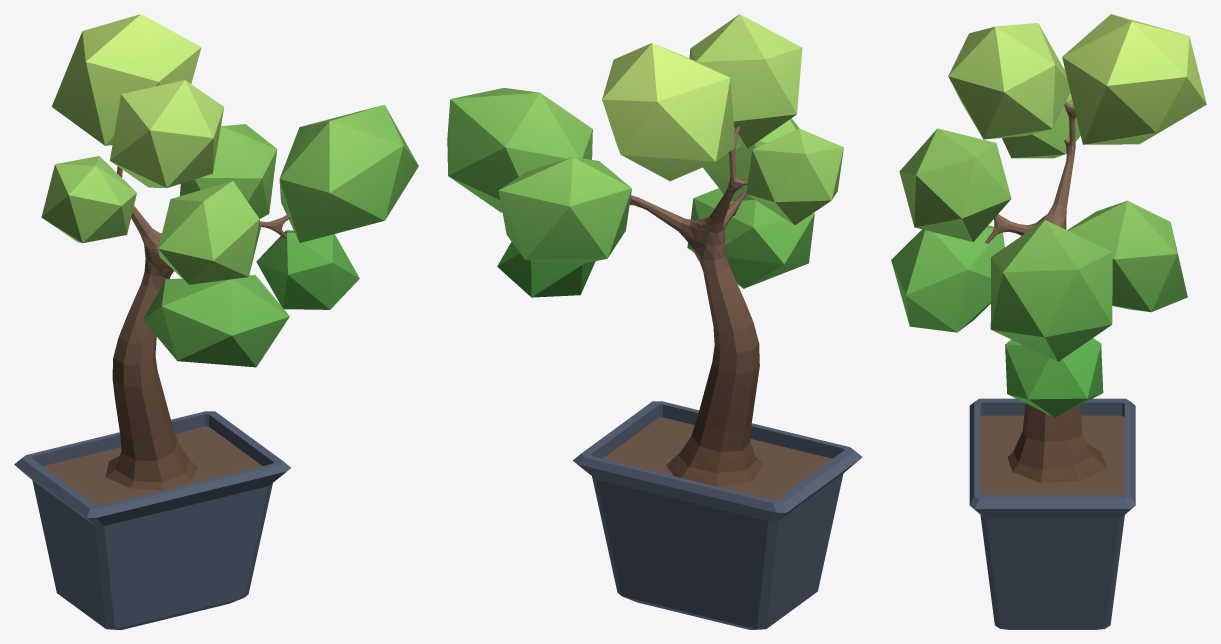
The model's file is Plant_03.fbx.
The picture shows the model from 3 angles, left to right: view 1: azimuth 30°, elevation 25°; view 2: azimuth 150°, elevation 25°; view 3: azimuth 270°, elevation 25°; orthographic projection. The views are drawn at different scales.
Visible parts, largest first — view 1: Plant_03; view 2: Plant_03; view 3: Plant_03.
Boxes of the visible parts, box(x1,y1,x2,y2) form: Plant_03: box(14, 14, 418, 629); Plant_03: box(447, 14, 862, 629); Plant_03: box(891, 14, 1206, 629).
Size of the model in its own units: 24.3 by 34.44 by 16.71.
